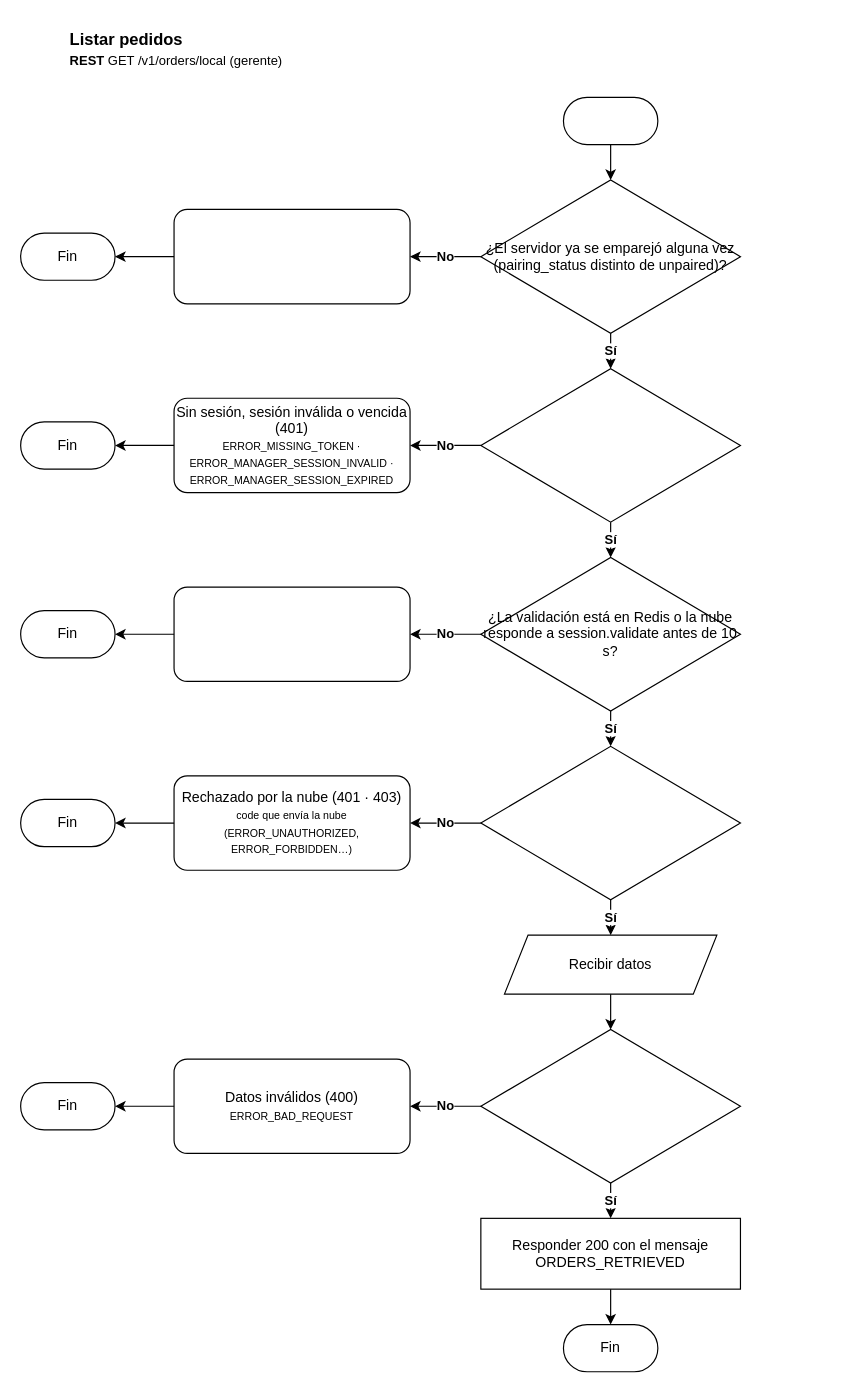
The diagram is 844 pixels wide and 1392 high, and some of its shapes have lost their labels. The centre of each missing label's shape, as x and y in pixels:
Inicio: point 610,120
La nube no responde (503) ERROR_CLOUD_UNAVAILABLE · ERROR_SERVER_UNLINKED: point 291,633
Servidor sin emparejar (409) ERROR_SERVER_NOT_PAIRED: point 291,256
¿La nube acepta la sesión del gerente con este servidor?: point 610,822
¿Los datos son válidos?: point 610,1105
¿Trae una sesión de gerente válida (Bearer mss_..., sin 30 min de inactividad)?: point 610,445
